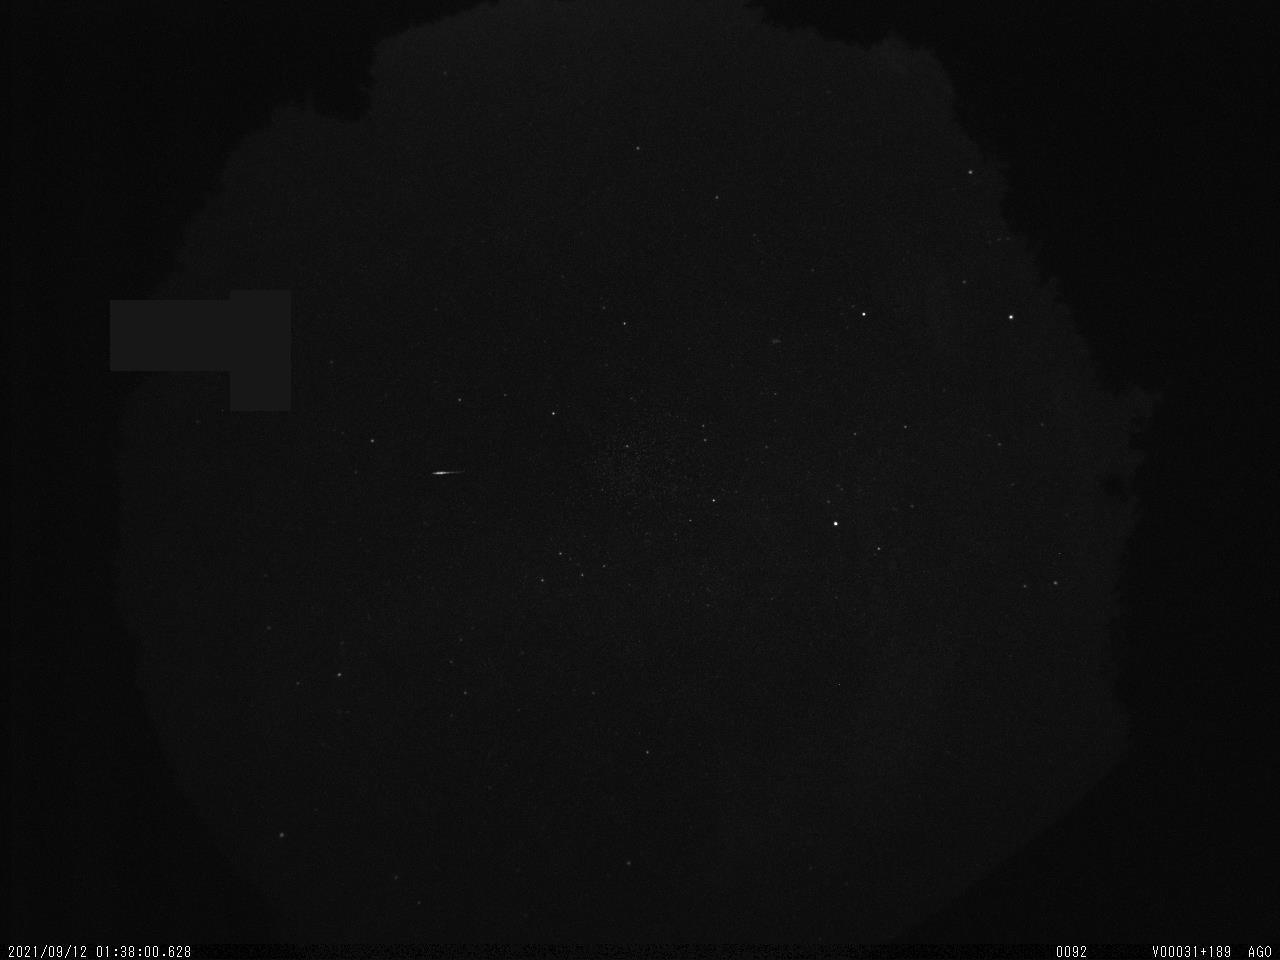meteor: (418, 463, 474, 484)
